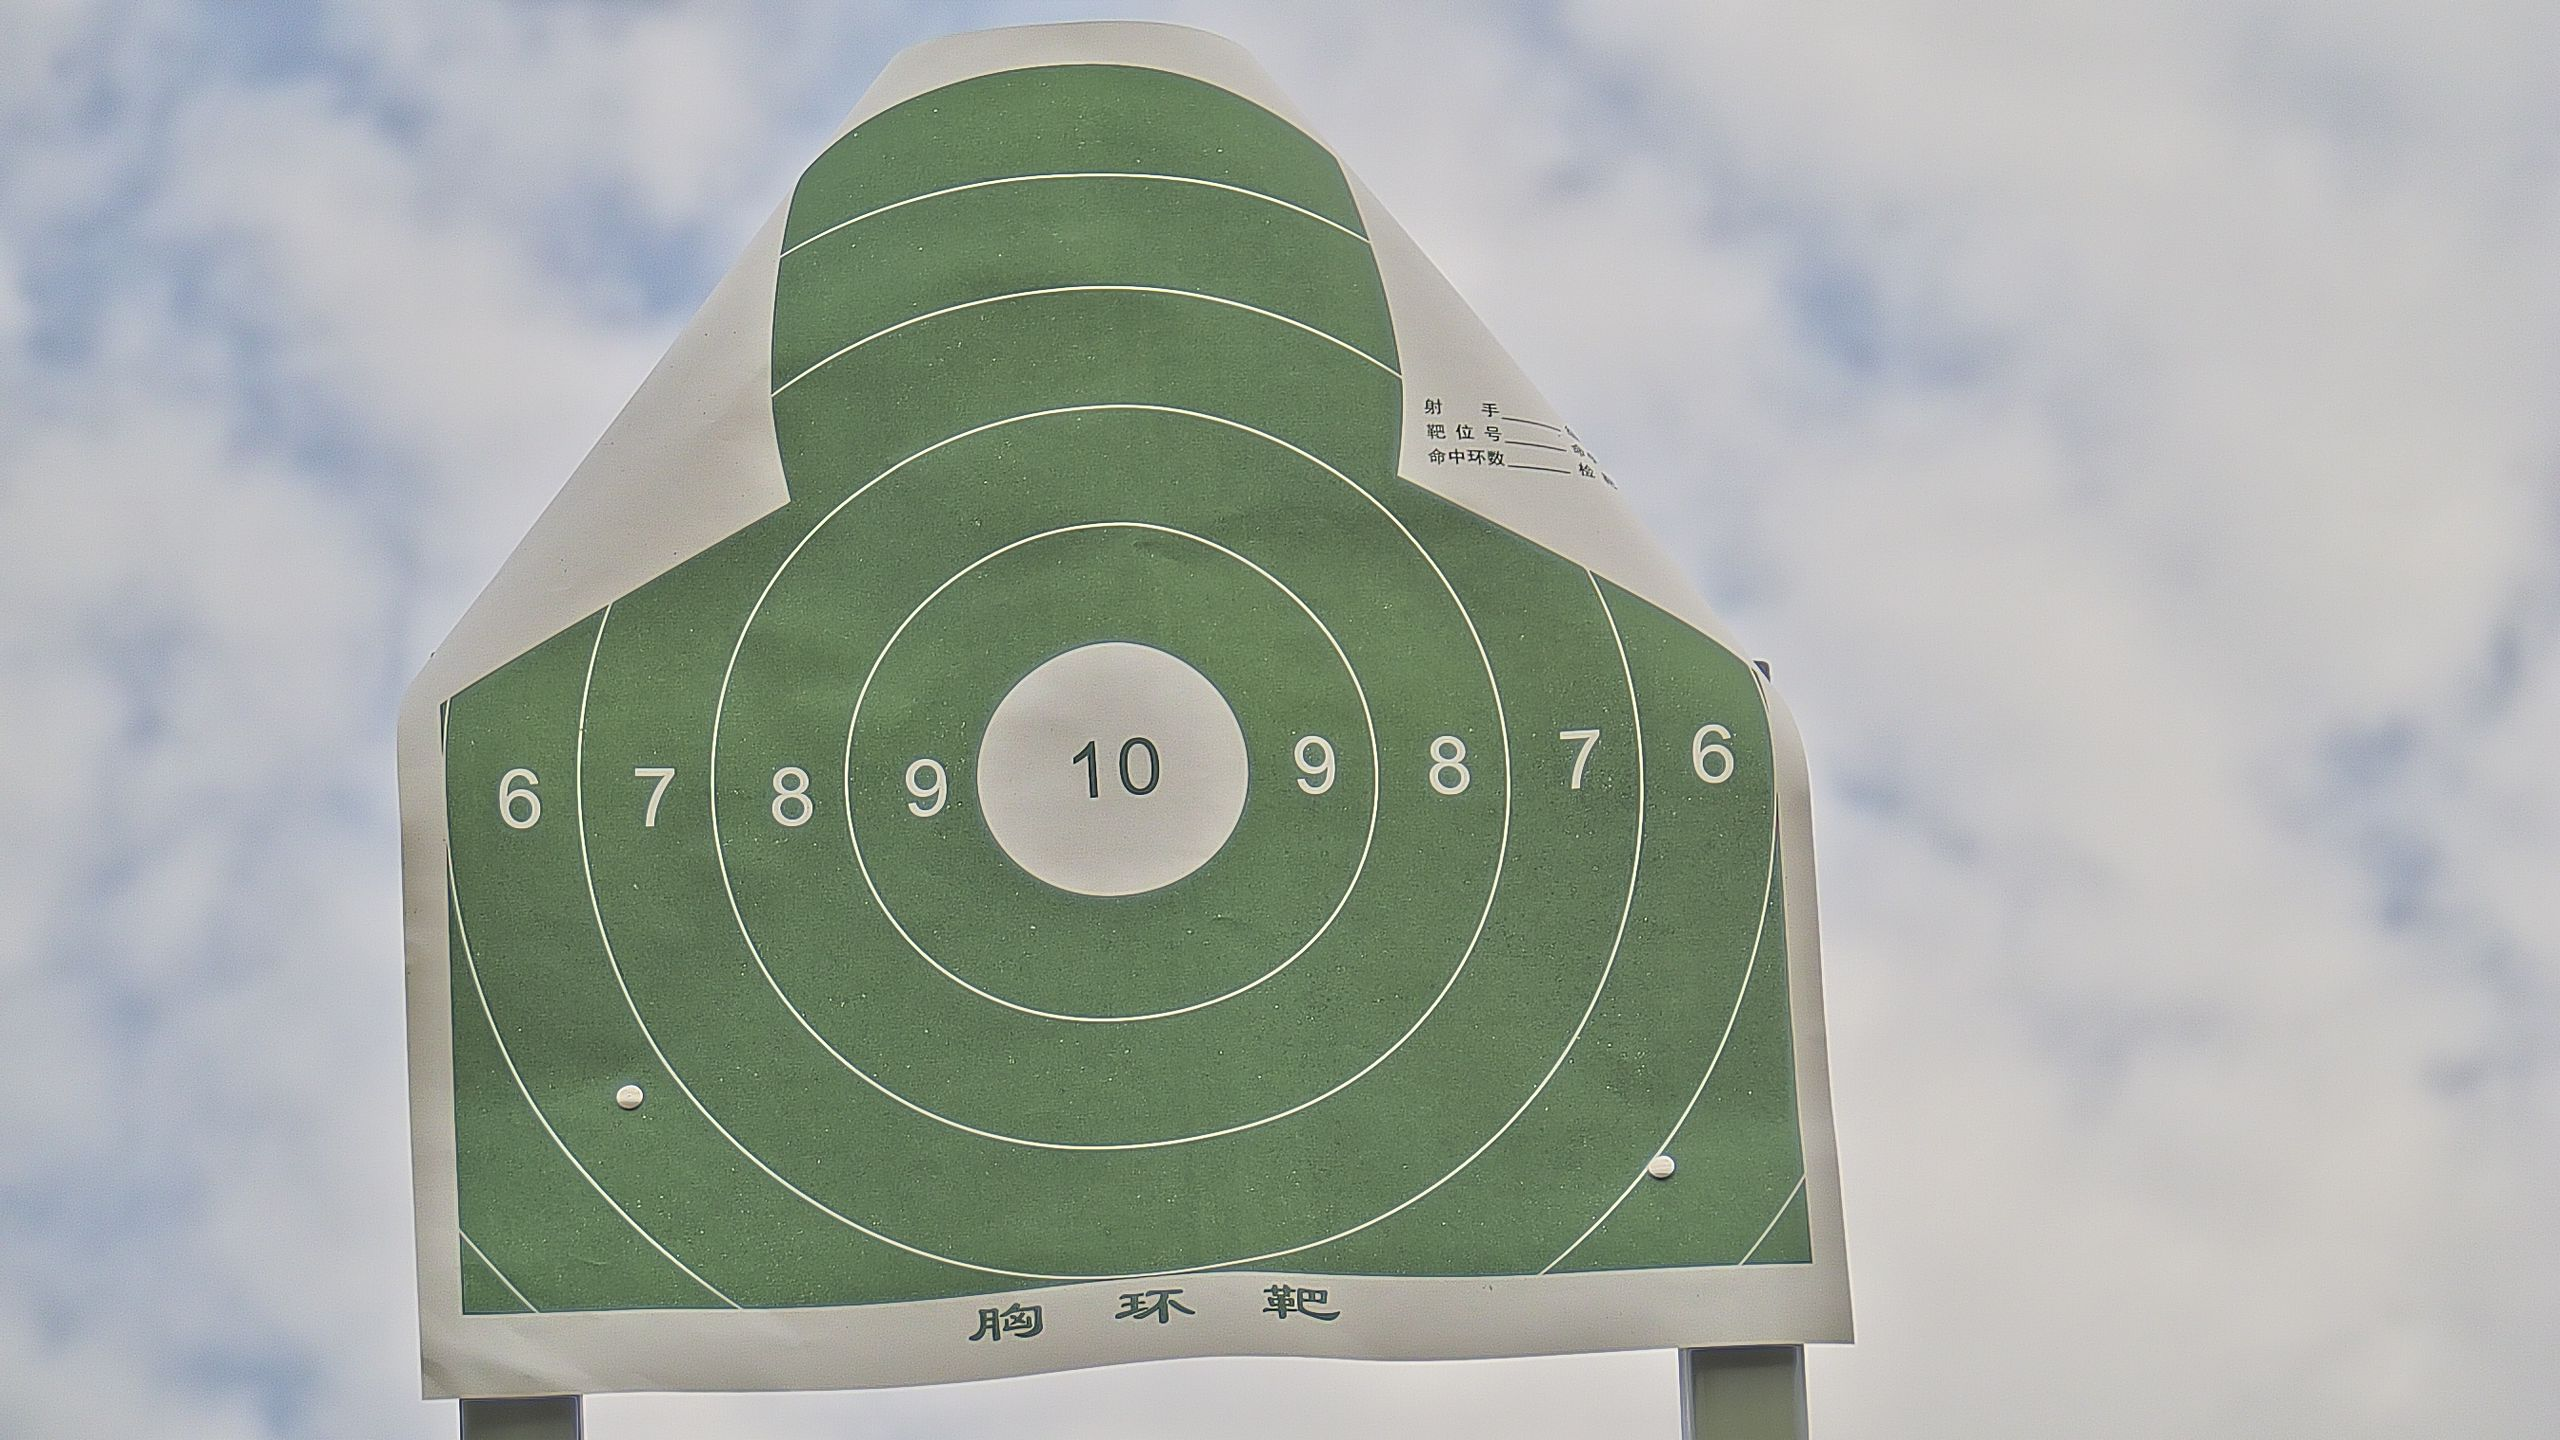kernel: (1109, 768, 1115, 775)
target: (438, 67, 1815, 1333)
ten: (978, 644, 1254, 897)
